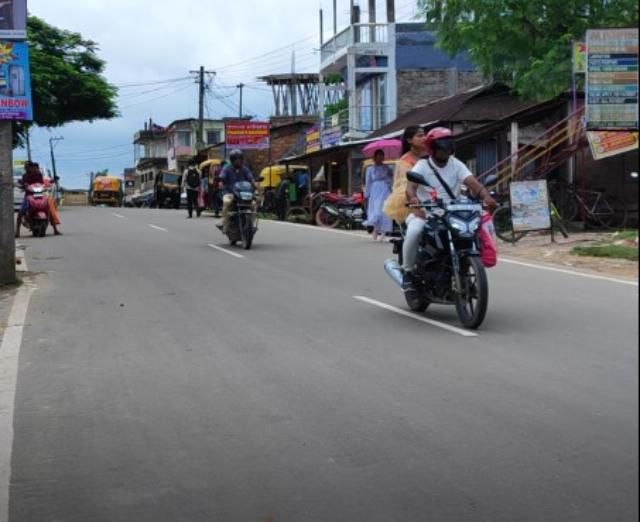licensePlate: (448, 202, 480, 213)
motorcycle: (381, 122, 503, 335), (210, 144, 272, 251)
withHelmet: (427, 130, 457, 166), (228, 148, 246, 168)
withoutHelmet: (403, 125, 426, 158)
